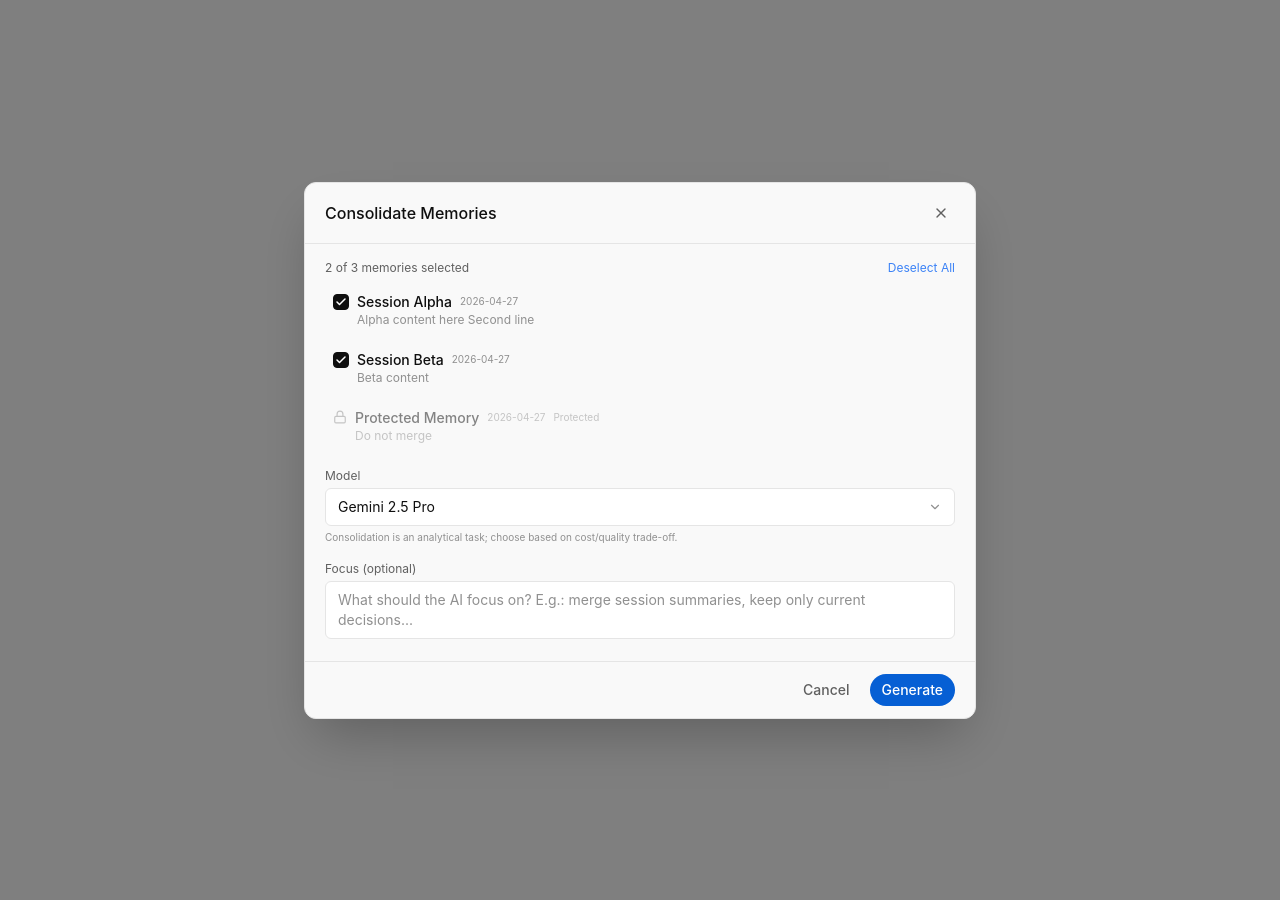
Test: ConsolidationModal — Selection step › selecting/deselecting updates count
Check: the text "2 of 3 memories selected" is shown, box [325, 260, 469, 276]
Note: Deselect one
Click the text "Session Alpha": [404, 302] box [357, 292, 452, 312]
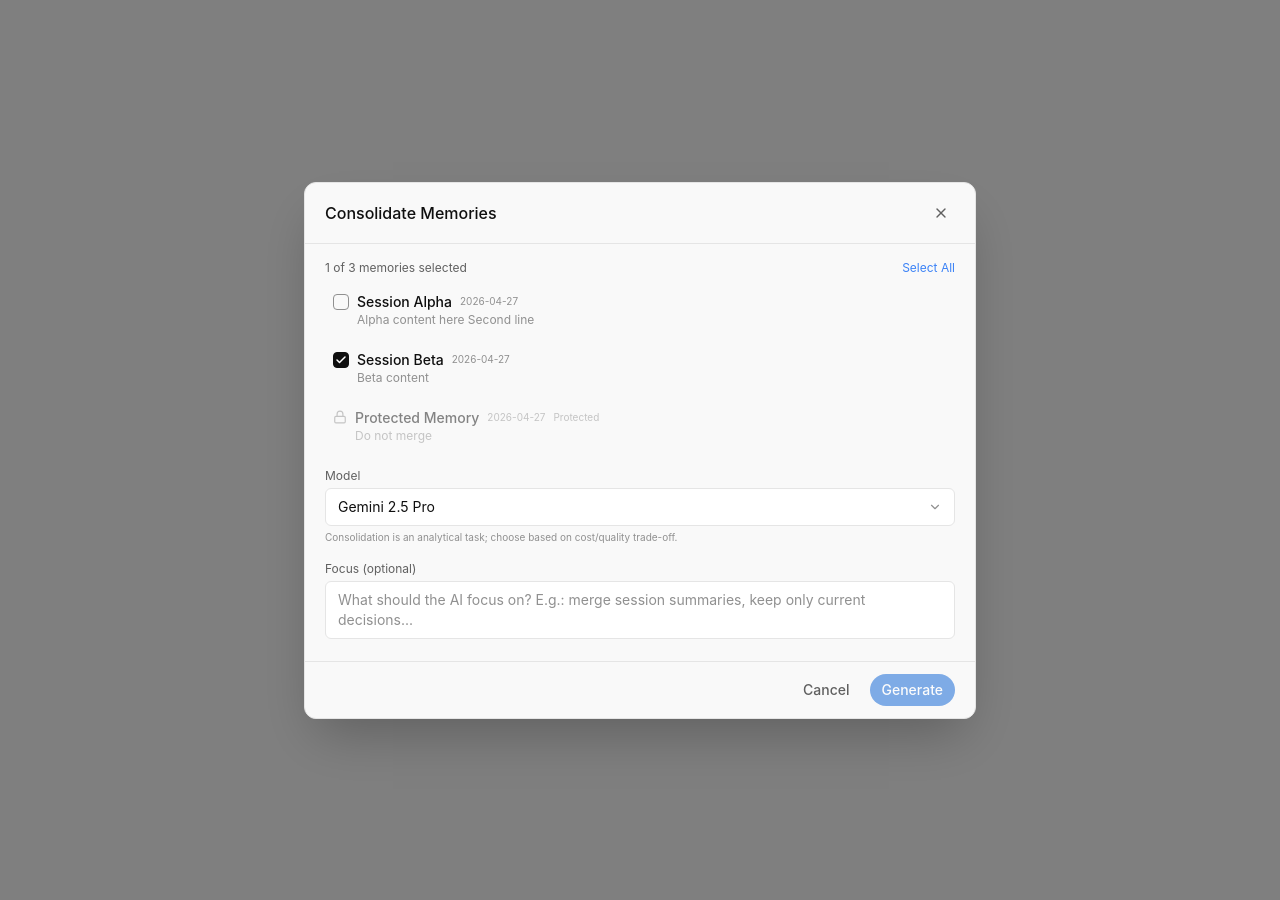
Check: the text "1 of 3 memories selected" is shown, box [325, 260, 467, 276]
